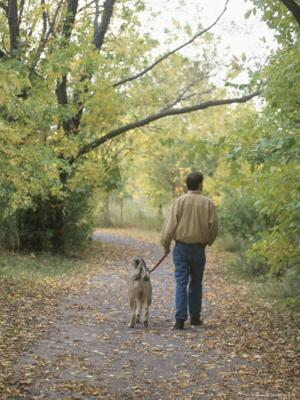person: (162, 171, 218, 328)
